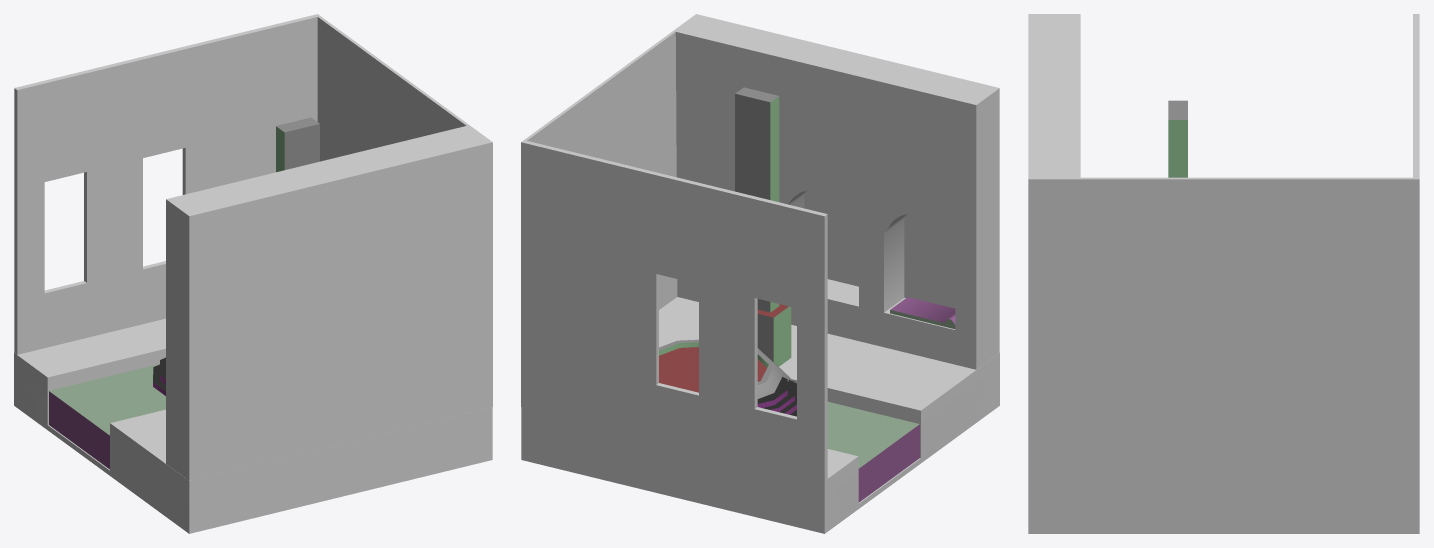
The model's file is Spa_jacuzzi.FBX.
3 views of the same model, side by side, from view 1: azimuth 30°, elevation 25°; view 2: azimuth 150°, elevation 25°; view 3: azimuth 270°, elevation 25° (orthographic). The views are drawn at different scales.
Parts seen in each view (by area): view 1: mur alcove spa jacouzi, mur fenetre spa001, sol spa jacouzi, Box064, eau spa zacouzi, Box053; view 2: mur fenetre spa001, mur alcove spa jacouzi, sol spa jacouzi, Box064, Box053, eau spa zacouzi, Cylinder027, Box059, escalier spa jacouzi; view 3: Box064, mur alcove spa jacouzi, sol spa jacouzi, mur fenetre spa001, Box053.
Part boxes in pixels (x1,y1,x2,y2): mur alcove spa jacouzi: (166,125,492,480); mur fenetre spa001: (14,14,320,354); sol spa jacouzi: (14,318,492,533); Box064: (317,16,468,161); eau spa zacouzi: (49,364,165,469); Box053: (276,117,319,172); mur fenetre spa001: (521,140,827,480); mur alcove spa jacouzi: (673,14,999,369); sol spa jacouzi: (521,297,999,533); Box064: (524,31,677,309); Box053: (735,87,791,366); eau spa zacouzi: (827,402,919,502); Cylinder027: (659,339,791,398); Box059: (890,297,955,328); escalier spa jacouzi: (757,376,796,416); Box064: (1080,177,1412,474); mur alcove spa jacouzi: (1028,14,1080,474); sol spa jacouzi: (1028,475,1419,533); mur fenetre spa001: (1413,14,1419,474); Box053: (1168,100,1187,177).
Bounding box in the file's own units: 600 × 600 × 600.
